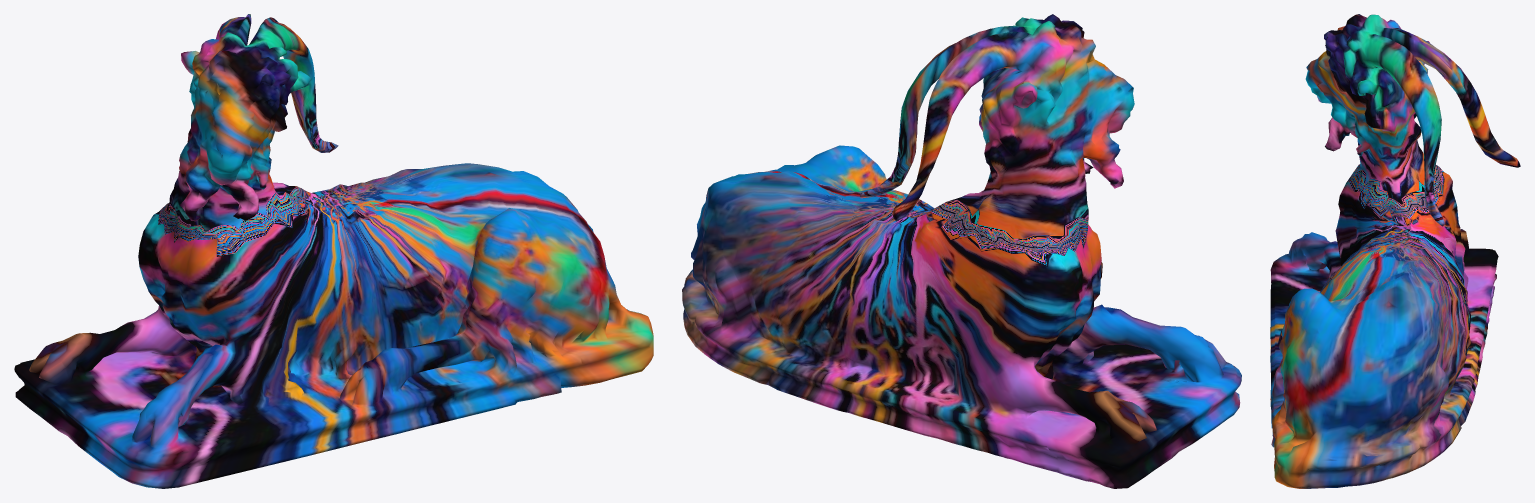
Rendered from tds_statue-of-resting-goat.glb.
The picture shows the model from 3 angles, left to right: view 1: azimuth 30°, elevation 25°; view 2: azimuth 150°, elevation 25°; view 3: azimuth 270°, elevation 25°; orthographic projection. The views are drawn at different scales.
Parts seen in each view (by area): view 1: A; view 2: A; view 3: A.
Boxes of the visible parts, <box> form: A: <box>14,14,653,488</box>; A: <box>682,14,1241,488</box>; A: <box>1270,14,1520,488</box>.
Size of the model in its own units: 2 by 1.38 by 0.974.
1 material, 1 textured.
